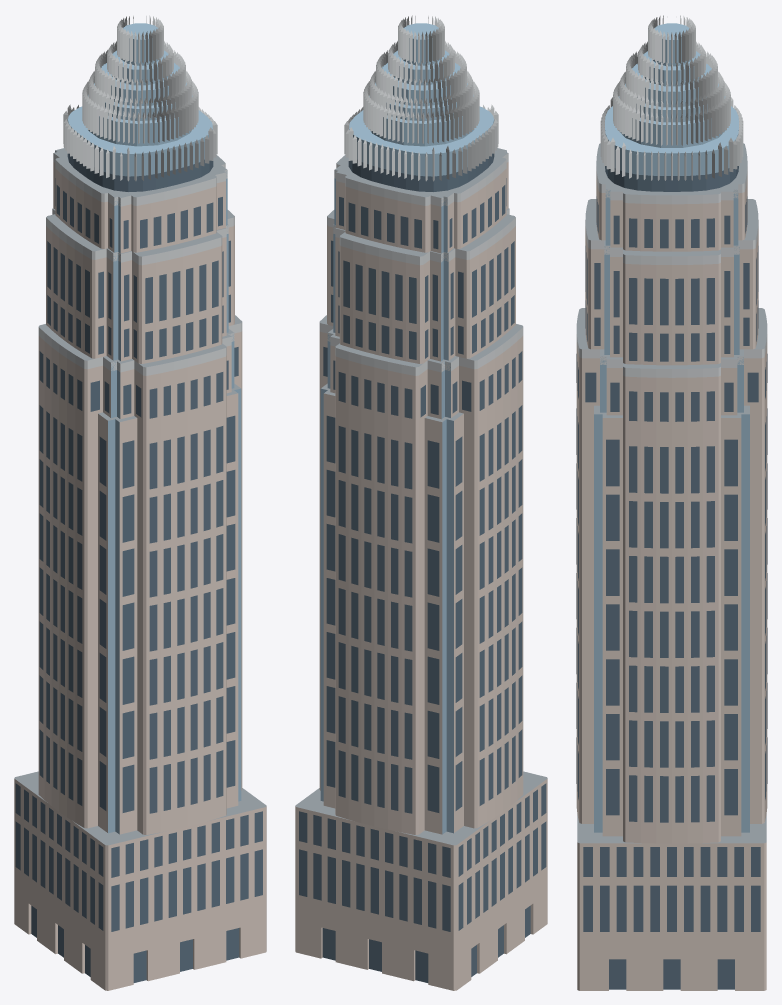
Rendered from bank-of-america-corporate-center.glb.
3 renders of one model, left to right at view 1: azimuth 30°, elevation 25°; view 2: azimuth 150°, elevation 25°; view 3: azimuth 270°, elevation 25°, orthographic.
Parts seen in each view (by area): view 1: Bank of America Corporate Center; view 2: Bank of America Corporate Center; view 3: Bank of America Corporate Center.
Boxes of the visible parts, bbox=[...] form: Bank of America Corporate Center: bbox=[14, 15, 266, 990]; Bank of America Corporate Center: bbox=[295, 15, 547, 990]; Bank of America Corporate Center: bbox=[576, 15, 767, 990].
Bounding box in the file's own units: 49.24 × 264 × 49.24.
